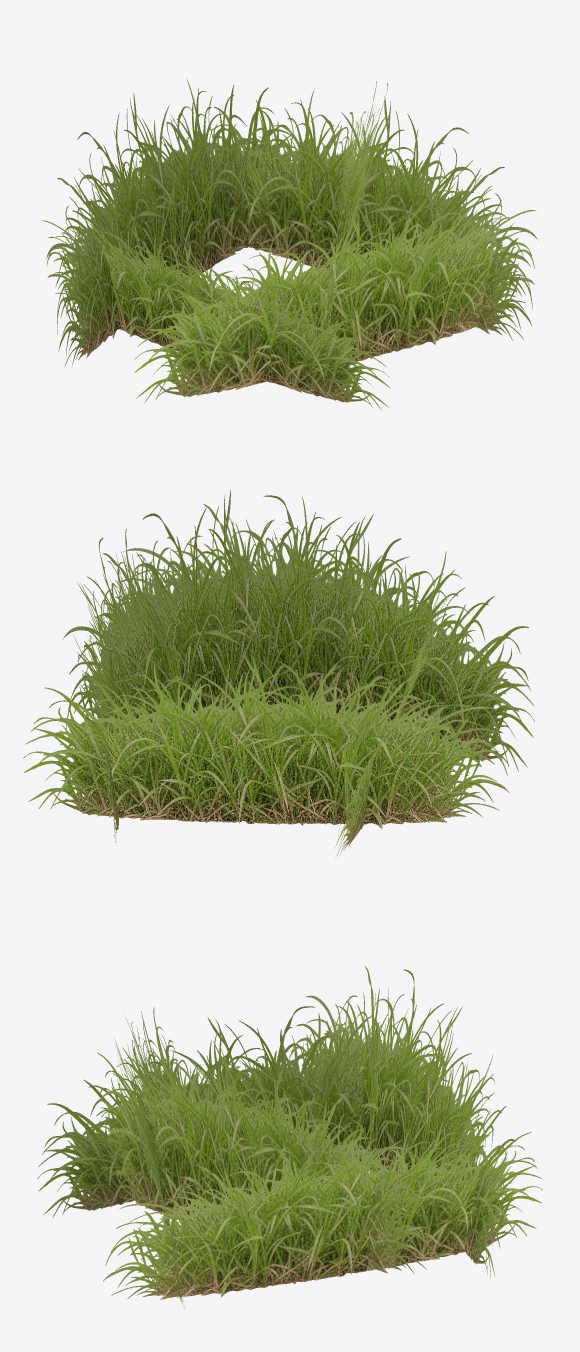
File: capim-fotografico.glb
3 renders of one model, top to bottom at view 1: azimuth 30°, elevation 25°; view 2: azimuth 150°, elevation 25°; view 3: azimuth 270°, elevation 25°, orthographic. The views are drawn at different scales.
Bounding box in the file's own units: 0.7384 × 0.36 × 0.7639.
Materials: 1 (1 with a texture image).
